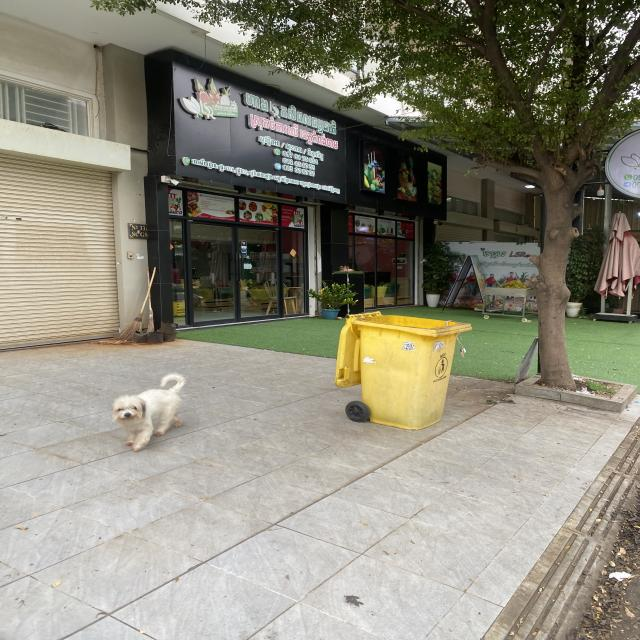1: (246, 109, 342, 152), (191, 156, 228, 174)
293: (280, 163, 316, 178)
3: (249, 167, 341, 196)
4: (255, 133, 326, 162)
435: (280, 157, 316, 171)
475: (280, 149, 319, 165)
714: (226, 163, 233, 173)
723: (138, 225, 146, 232)
Yolov11kh: (278, 101, 339, 139), (244, 90, 271, 113), (483, 260, 534, 269), (480, 249, 509, 259), (212, 104, 237, 114), (235, 166, 243, 178)
